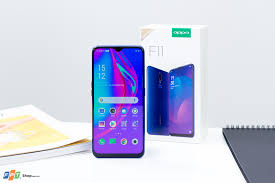oppo: (88, 43, 147, 159)
